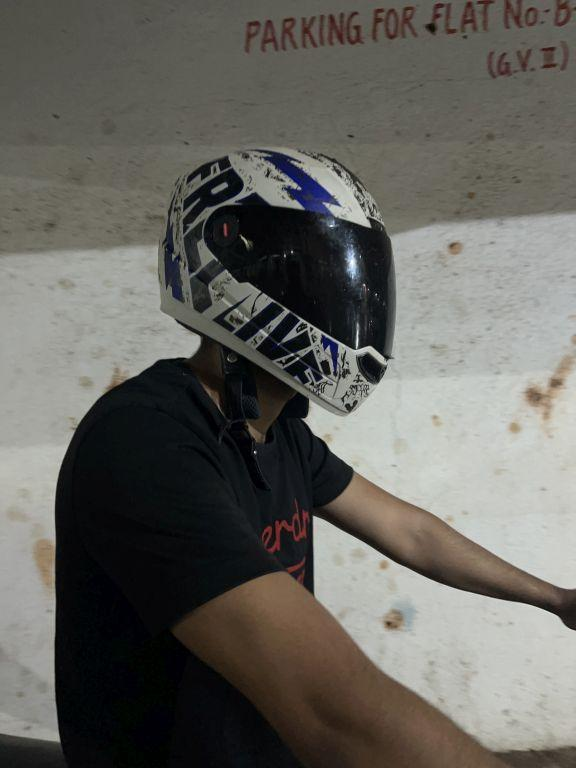helmet: (142, 114, 409, 438)
